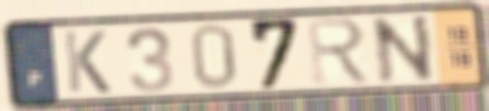0: (187, 21, 240, 93)
3: (124, 25, 174, 93)
7: (246, 17, 303, 93)
K: (59, 28, 114, 95)
N: (368, 12, 437, 86)
R: (304, 16, 375, 87)
